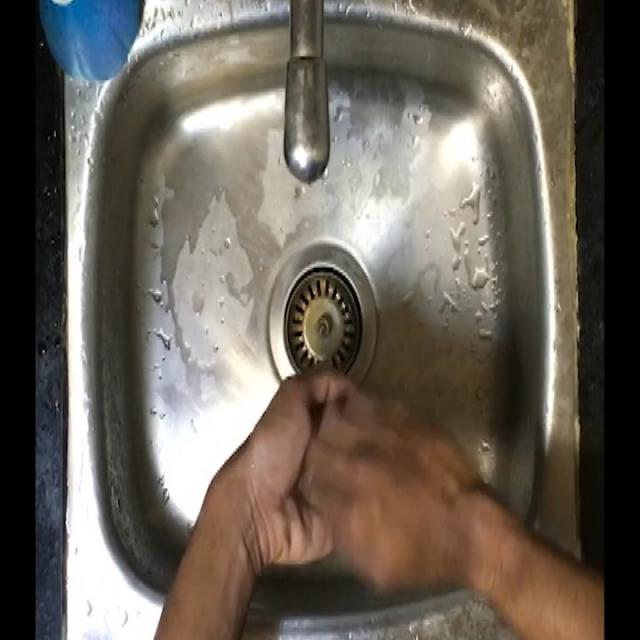step_4: (237, 352, 464, 608)
